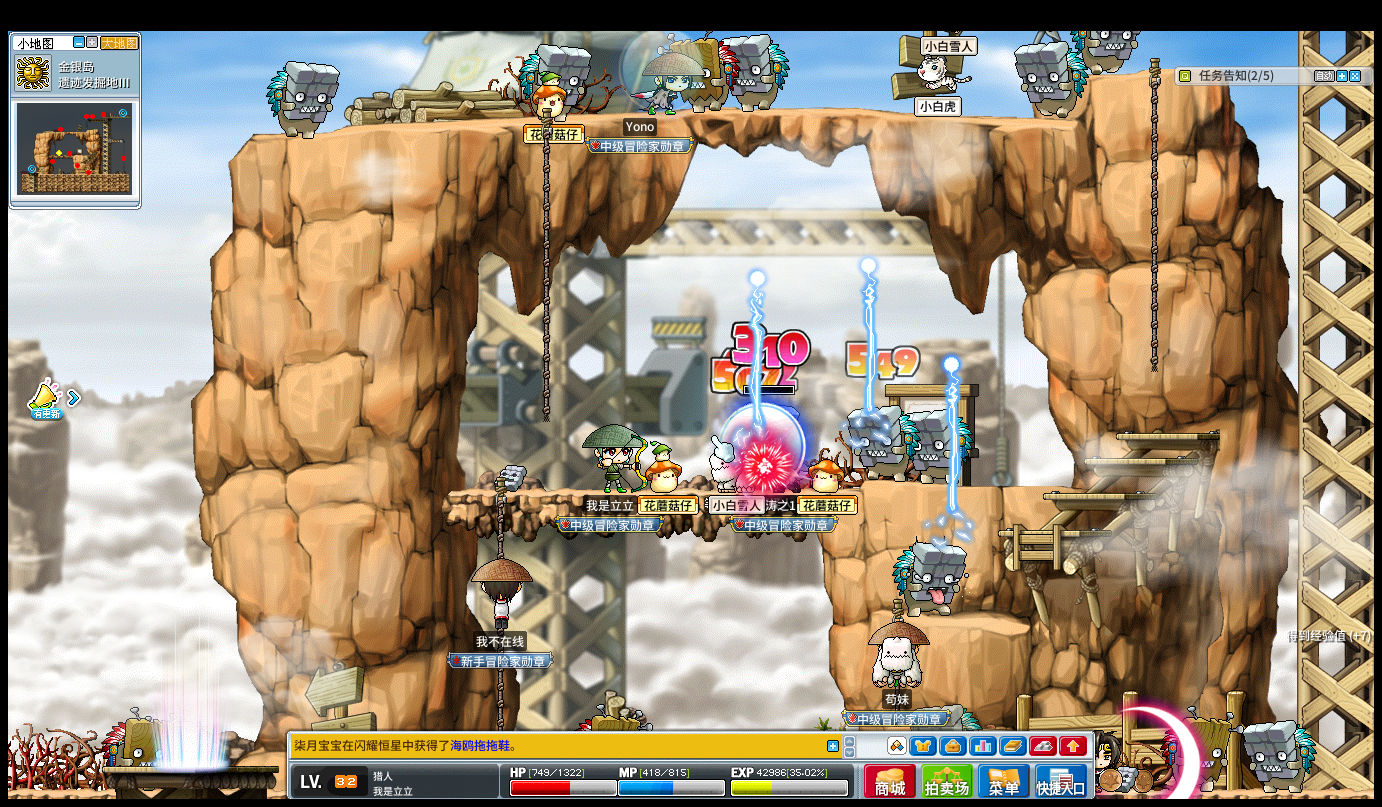floor: (247, 105, 1102, 138), (445, 487, 832, 499), (909, 612, 1030, 634), (877, 480, 1076, 491), (1112, 429, 1221, 441), (1079, 456, 1195, 464), (1089, 68, 1166, 80), (1040, 492, 1155, 500), (995, 528, 1107, 536)
monster: (265, 59, 340, 138), (1014, 38, 1085, 119), (892, 541, 966, 618), (1241, 720, 1317, 792), (847, 405, 917, 482), (521, 42, 592, 111), (911, 409, 973, 484), (733, 32, 790, 110), (1187, 712, 1239, 790), (102, 711, 164, 768)
rope: (1146, 55, 1160, 378), (540, 109, 551, 424), (492, 482, 505, 559), (492, 669, 503, 727), (494, 668, 504, 724)
